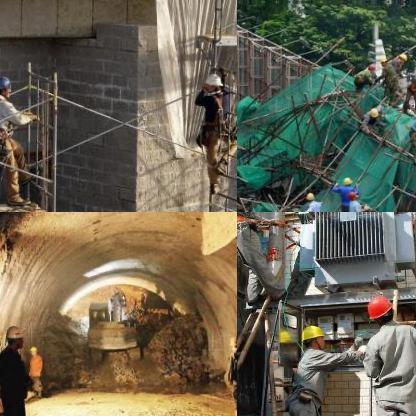Helmet: (364, 292, 392, 326), (299, 322, 325, 350), (198, 70, 224, 96), (5, 321, 25, 347), (0, 72, 13, 94), (223, 331, 236, 351), (301, 186, 317, 202), (364, 104, 380, 119), (396, 49, 408, 66), (340, 174, 354, 188), (376, 53, 390, 67), (26, 342, 40, 354), (346, 188, 360, 198), (364, 60, 374, 72)
